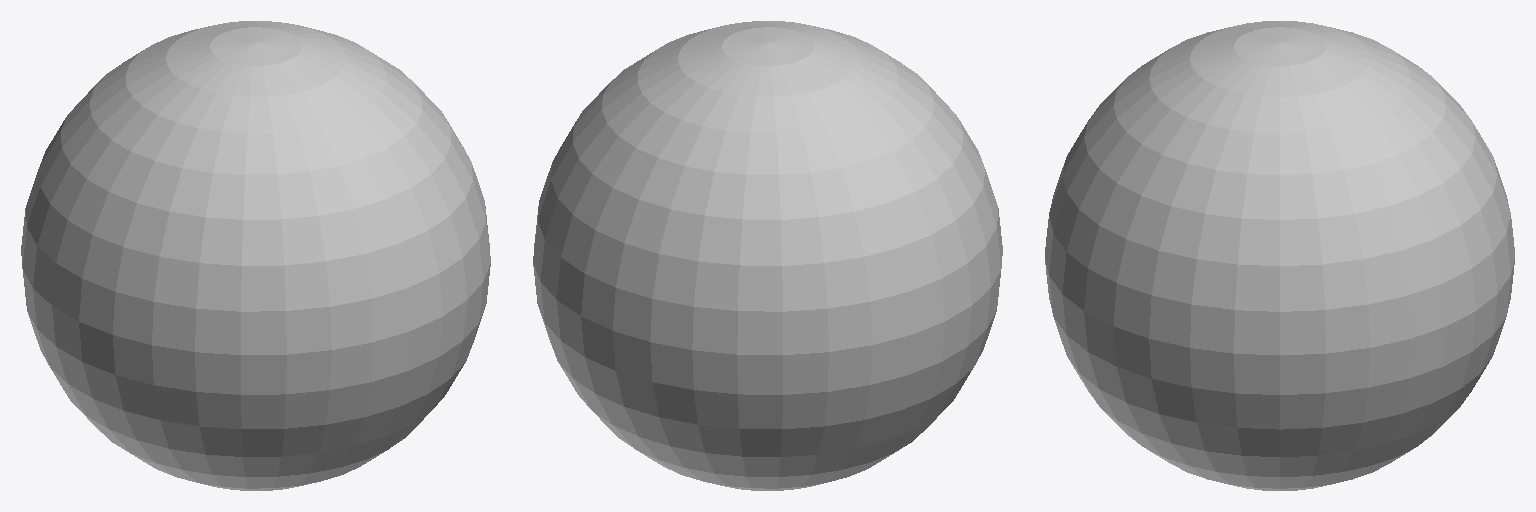
The model's file is skybox.obj.
The picture shows the model from 3 angles: view 1: azimuth 30°, elevation 25°; view 2: azimuth 150°, elevation 25°; view 3: azimuth 270°, elevation 25°; orthographic projection.
Visible parts, largest first — view 1: Figure_1; view 2: Figure_1; view 3: Figure_1.
Part boxes in pixels (x1,y1,x2,y2): Figure_1: (21,21,490,490); Figure_1: (533,21,1002,490); Figure_1: (1045,21,1514,490).
Size of the model in its own units: 20 by 20 by 20.